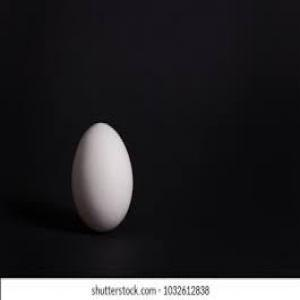Egg: (71, 121, 134, 230)
